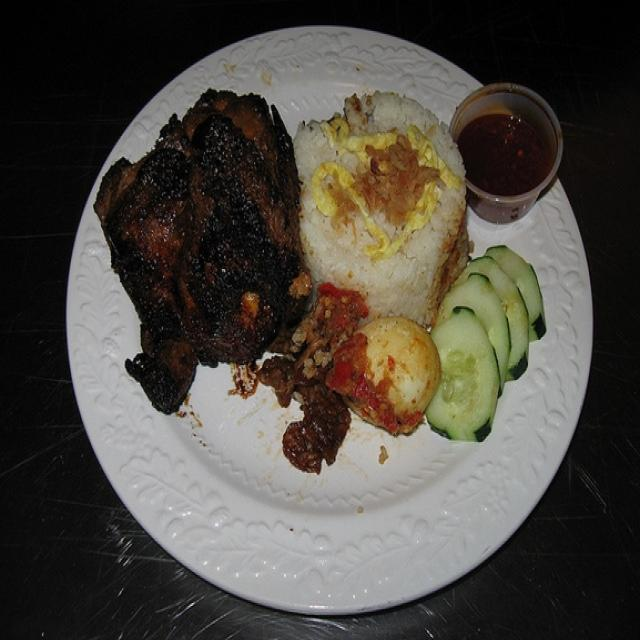米饭主食: (81, 48, 588, 512)
